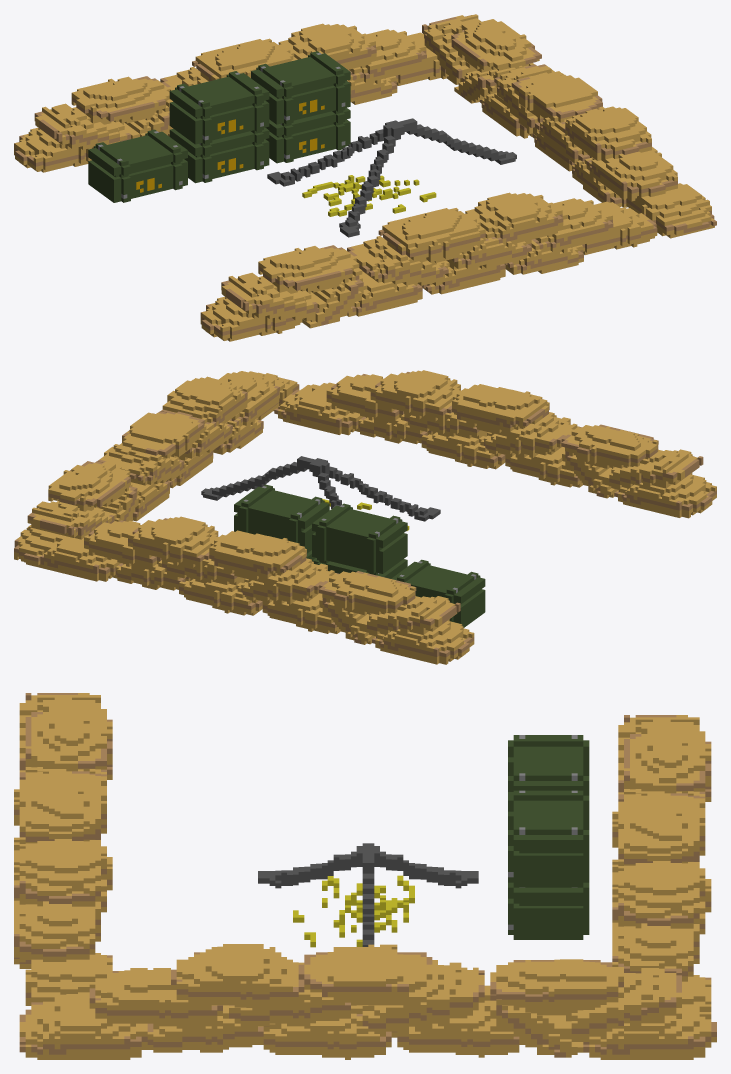
Rendered from mitrailleuse_v1.vox.obj.
The picture shows the model from 3 angles, top to bottom: view 1: azimuth 30°, elevation 25°; view 2: azimuth 150°, elevation 25°; view 3: azimuth 270°, elevation 25°; orthographic projection. The views are drawn at different scales.
Size of the model in its own units: 13.4 by 2 by 12.1.
Materials: 1 (1 with a texture image).
